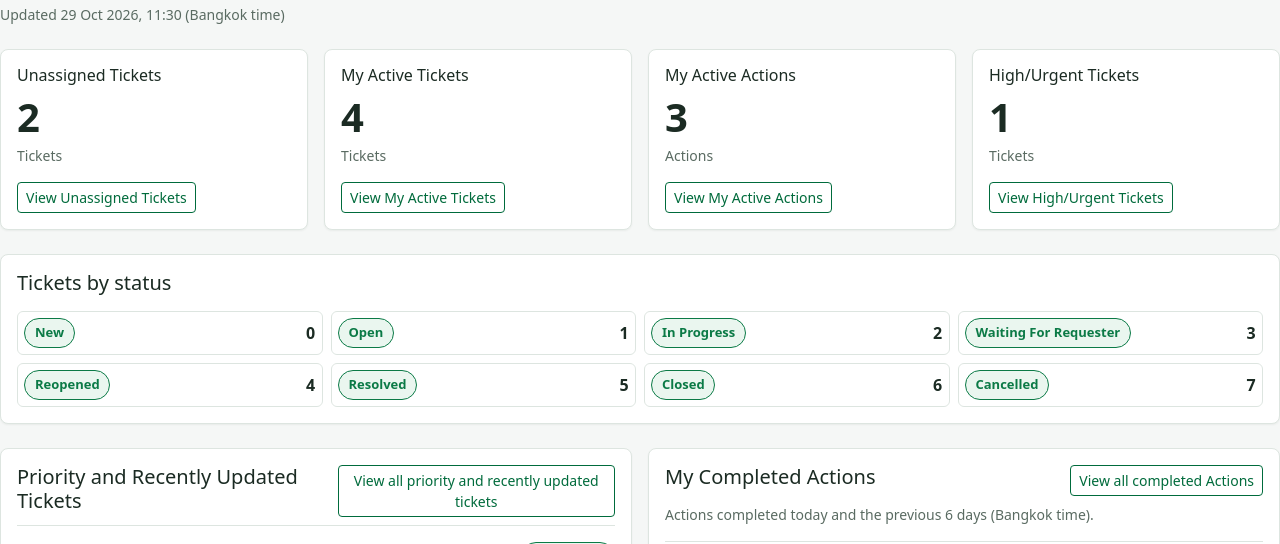
Test case: Issue 90 Staff/Admin Dashboard › UI-01: opens My Active Actions from another Actions view and focuses its heading
This screenshot has width=1280, height=544.
Click the link "View My Active Actions": [748, 197] box x1=665 y1=182 x2=832 y2=213
(page scrolled)
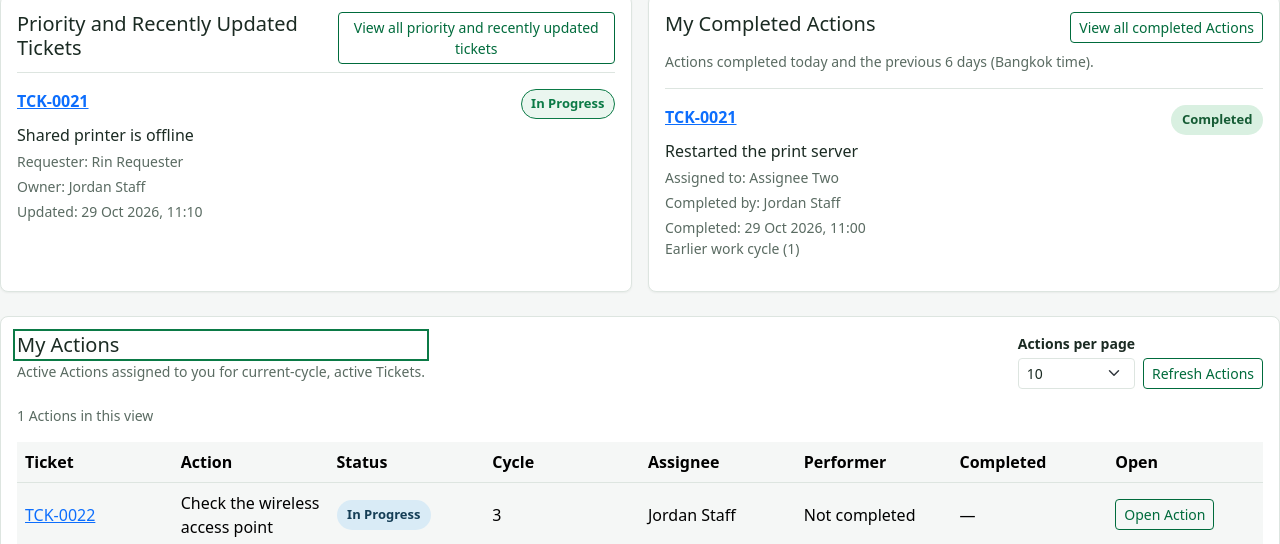
Check: the text "Active Actions assigned to you for current-cycle, active Tickets." is shown, box x1=17 y1=361 x2=425 y2=382
